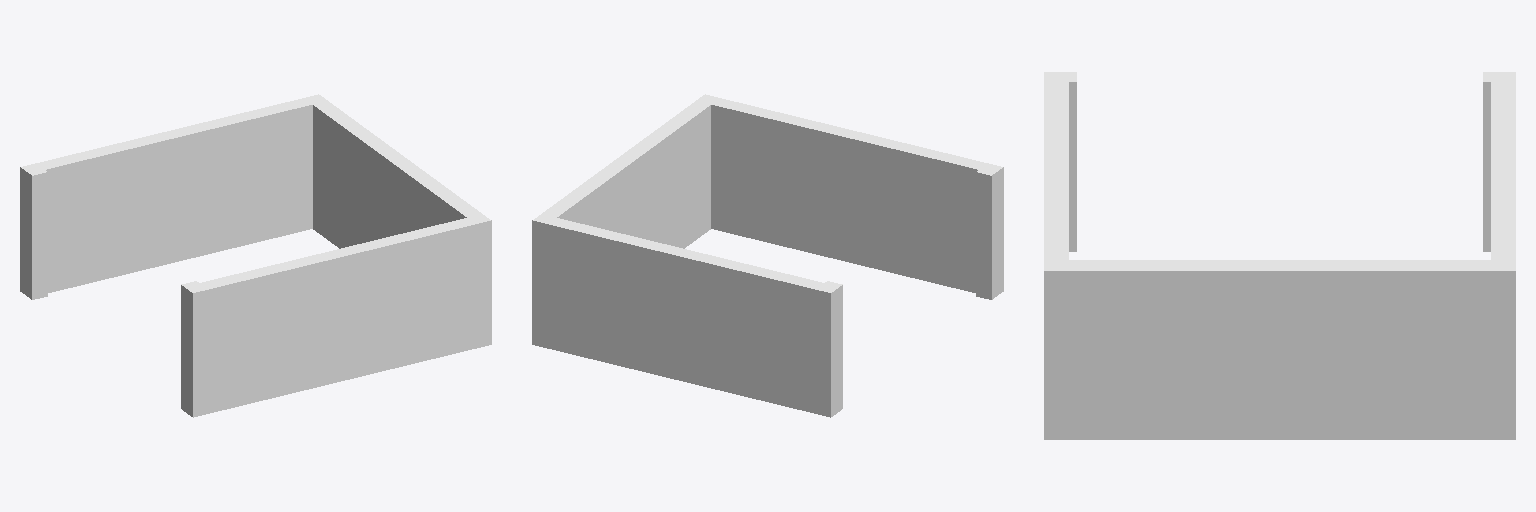
URDF robot description (house):
<?xml version="1.0" ?>
<robot name="house">
  <link name="houseLink">
  <contact>
      <lateral_friction value="1"/>
  </contact>
    <inertial>
      <origin rpy="0 0 0" xyz="0 0 0"/>
       <mass value=".0"/>
       <inertia ixx="0" ixy="0" ixz="0" iyy="0" iyz="0" izz="0"/>
    </inertial>
    <visual>
      <origin rpy="0 0 0" xyz="0 0 0"/>
      <geometry>
				<mesh filename="house.obj" scale="1 1 1"/>
      </geometry>
       <material name="white">
        <color rgba="1 1 1 1"/>
      </material>
    </visual>
    <!-- <collision>
      <origin rpy="0 0 0" xyz="0 0 -5"/>
      <geometry>
	 	<box size="200 200 10"/>
      </geometry>
    </collision> -->
  </link>
</robot>

--- Render facts (derived) ---
3 views of the same robot in one strip: view 1: azimuth 30°, elevation 25°; view 2: azimuth 150°, elevation 25°; view 3: azimuth 270°, elevation 25° (orthographic).
Model house with 1 links and 0 joints (none), rooted at houseLink, posed all joints at 0.
Links seen in each view (by area): view 1: houseLink; view 2: houseLink; view 3: houseLink.
Link boxes in pixels (left/top/right/bottom): houseLink: left=20, top=94, right=491, bottom=417; houseLink: left=532, top=94, right=1003, bottom=417; houseLink: left=1044, top=72, right=1515, bottom=439.
Bounding box of the posed robot: 10 × 10 × 3.98 m (x, y, z).
Meshes: 1 distinct files referenced, 1 mesh visuals loaded (1 OBJ).